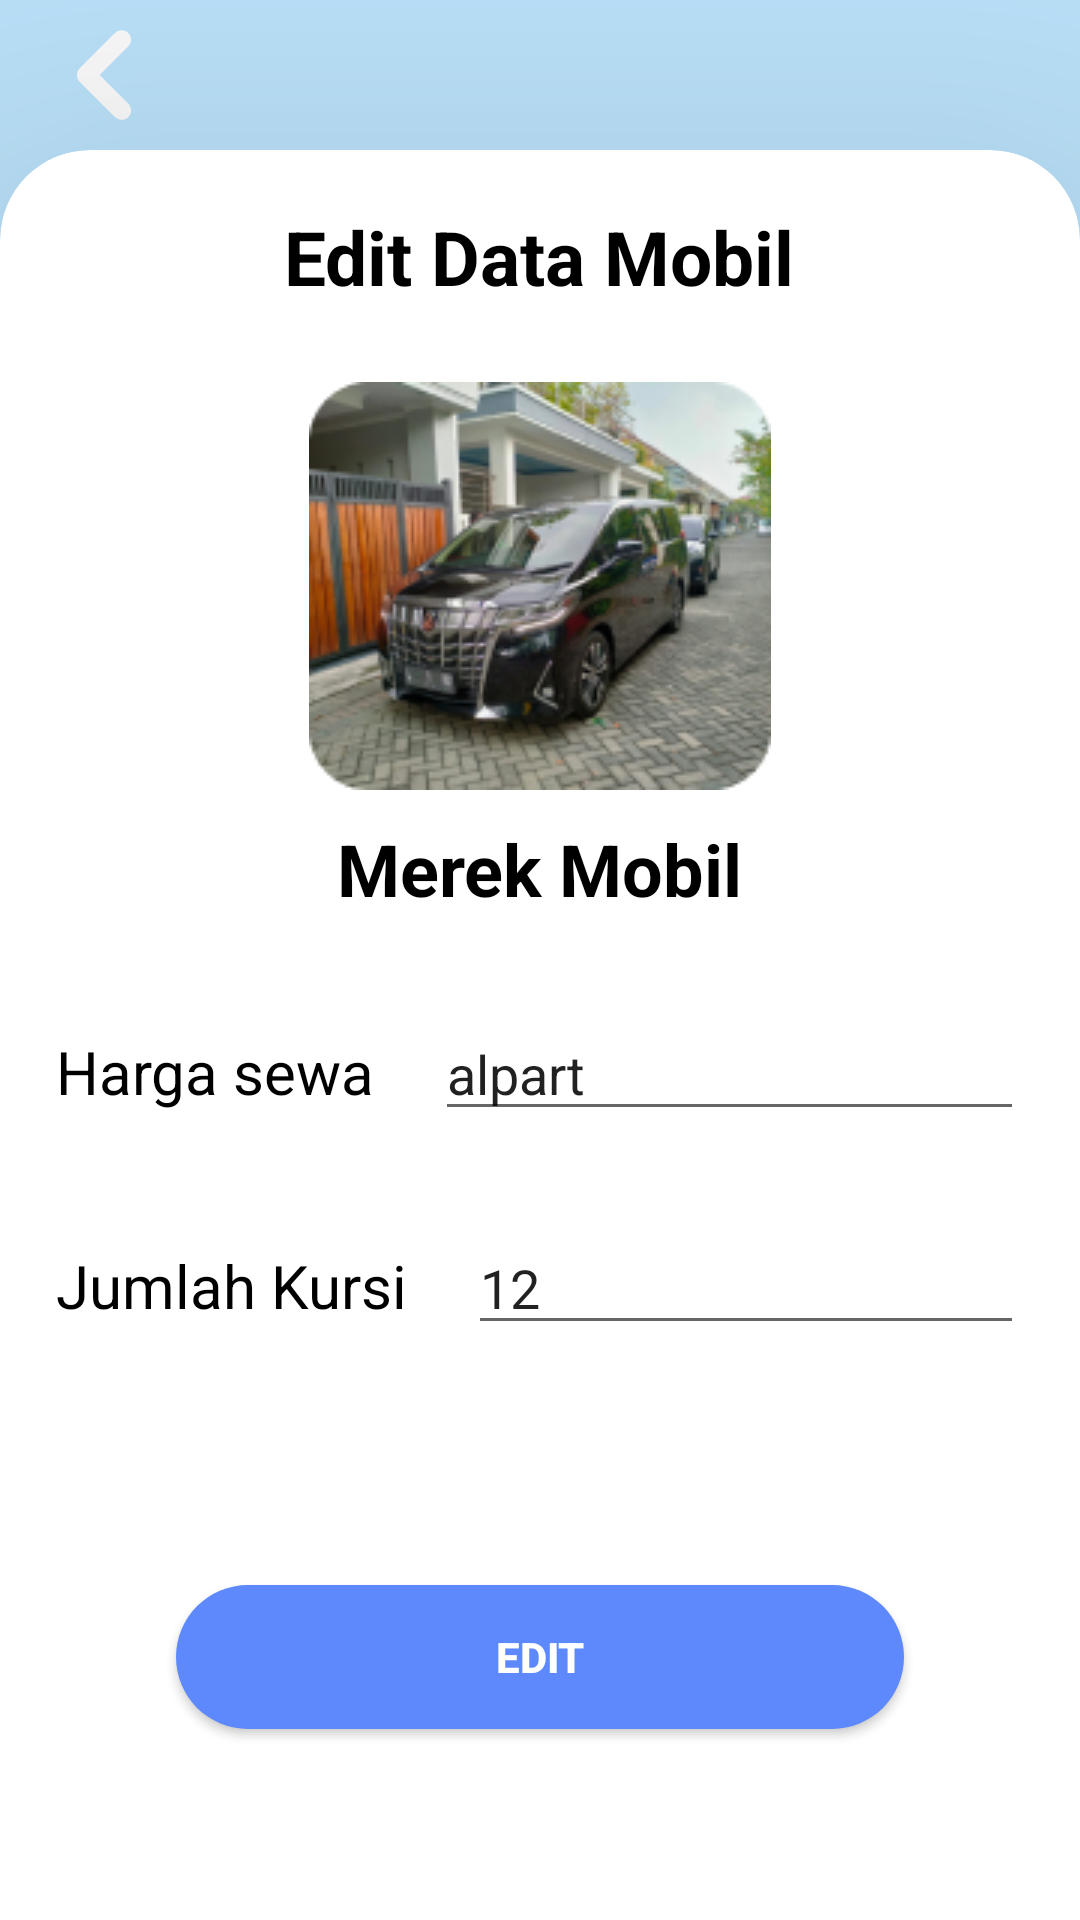

Locate icon controls on the screen. Image size 1080w x 1920h, boxes as bbox=[x1, y1, x2, y2].
back: bbox=[77, 30, 131, 120]
